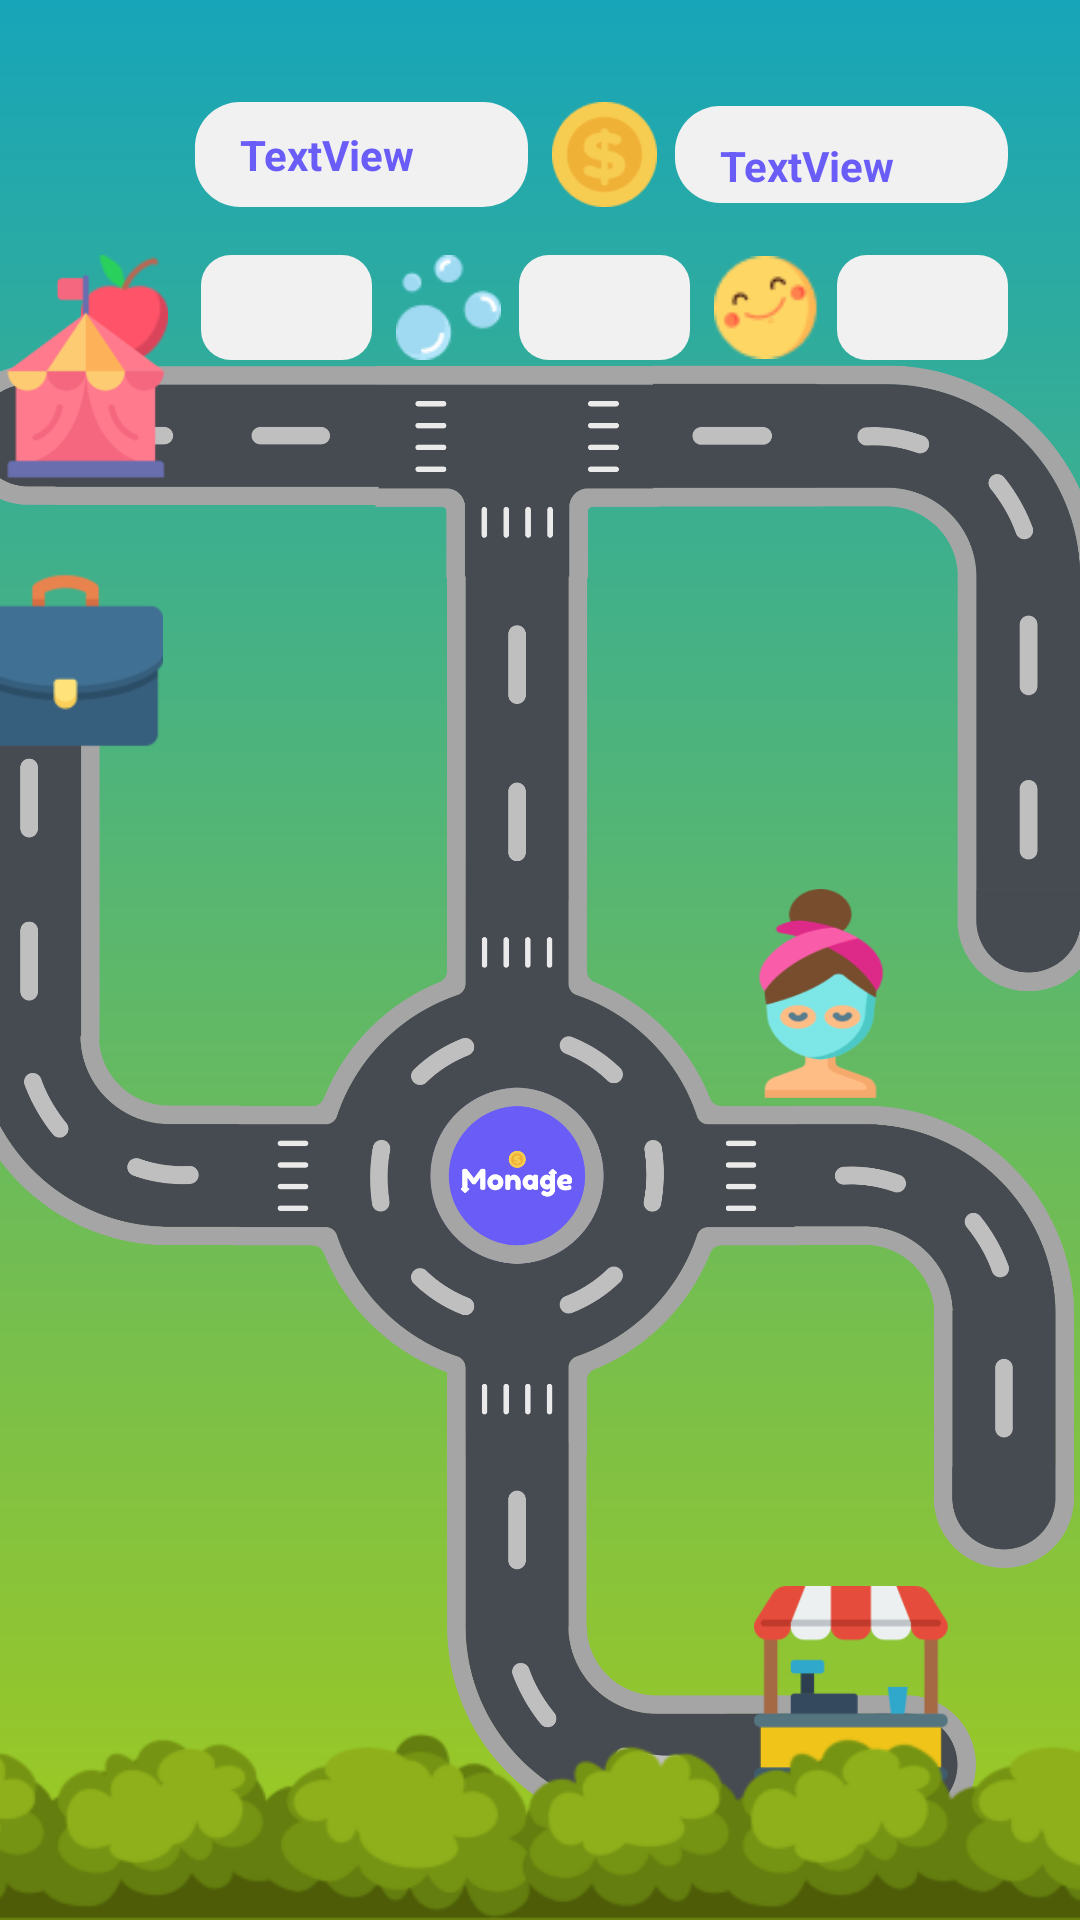

Screen size 1080px×1920px. Icon name, then its center in pixels as [x,y]:
coin: [604,154]
fun: [765,307]
hygiene: [448,307]
spa: [821,993]
supermarket: [851,1683]
